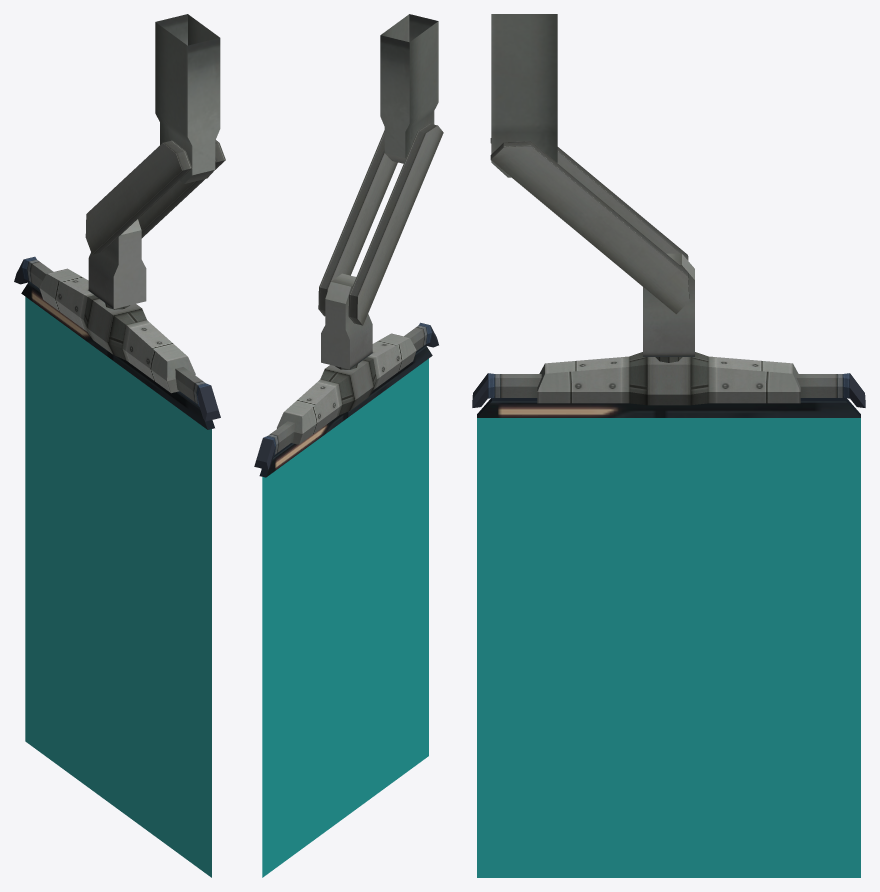
File: MemoryRoom_screen.fbx
The picture shows the model from 3 angles, left to right: view 1: azimuth 30°, elevation 25°; view 2: azimuth 150°, elevation 25°; view 3: azimuth 270°, elevation 25°; orthographic projection. The views are drawn at different scales.
Visible parts, largest first — view 1: MemoryRoom_screen01, MemoryRoom_ScreenHolder; view 2: MemoryRoom_screen01, MemoryRoom_ScreenHolder; view 3: MemoryRoom_screen01, MemoryRoom_ScreenHolder.
Boxes of the visible parts, x1=… form: MemoryRoom_screen01: x1=21, y1=282, x2=214, y2=877; MemoryRoom_ScreenHolder: x1=14, y1=14, x2=225, y2=421; MemoryRoom_screen01: x1=259, y1=345, x2=432, y2=877; MemoryRoom_ScreenHolder: x1=254, y1=14, x2=443, y2=470; MemoryRoom_screen01: x1=477, y1=398, x2=860, y2=877; MemoryRoom_ScreenHolder: x1=472, y1=14, x2=865, y2=407.
Bounding box in the file's own units: 0.0778 × 1.41 × 0.5887.
